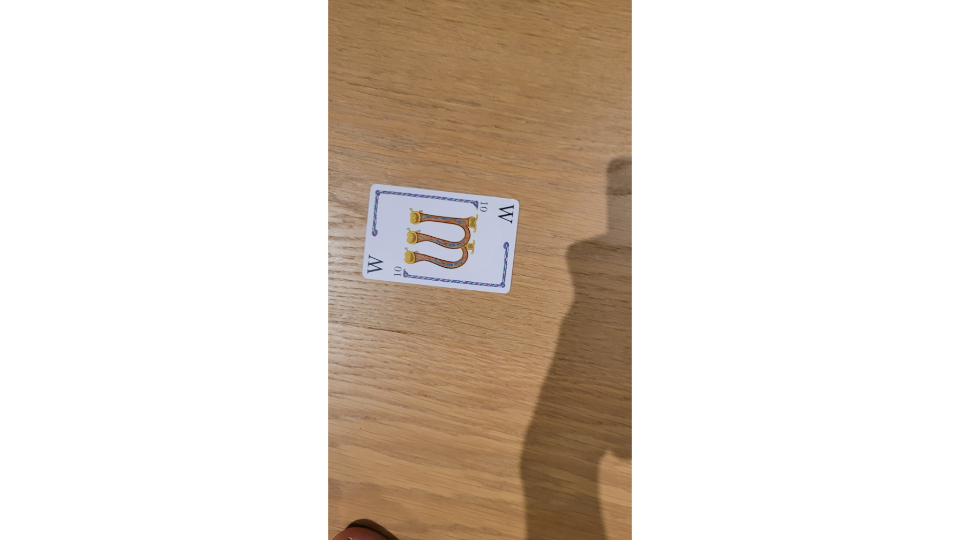W: (361, 181, 522, 296)
